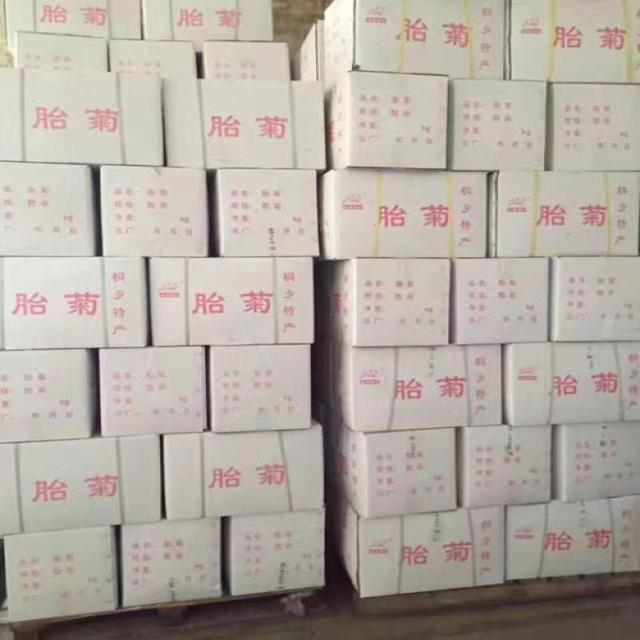box: (330, 488, 506, 599), (322, 0, 509, 91), (324, 337, 502, 432), (161, 77, 327, 178), (165, 417, 324, 522), (0, 66, 162, 167), (314, 170, 487, 262), (17, 428, 164, 532), (148, 256, 314, 348), (325, 406, 457, 519), (1, 256, 148, 351), (487, 171, 639, 258), (323, 71, 449, 171), (507, 493, 639, 581), (325, 258, 452, 348), (503, 341, 639, 425), (4, 526, 119, 624), (511, 0, 639, 84), (143, 0, 274, 79), (98, 346, 208, 437), (100, 166, 208, 257), (447, 78, 547, 174), (0, 162, 100, 257), (5, 0, 142, 68), (0, 349, 98, 443), (122, 517, 222, 608), (210, 344, 312, 433), (223, 506, 325, 595), (218, 169, 320, 256), (450, 258, 550, 344), (546, 83, 639, 172), (457, 423, 553, 509), (549, 257, 639, 342), (553, 421, 639, 502), (16, 31, 110, 72), (204, 40, 291, 81), (109, 39, 197, 78), (0, 443, 22, 536), (293, 19, 322, 82)
